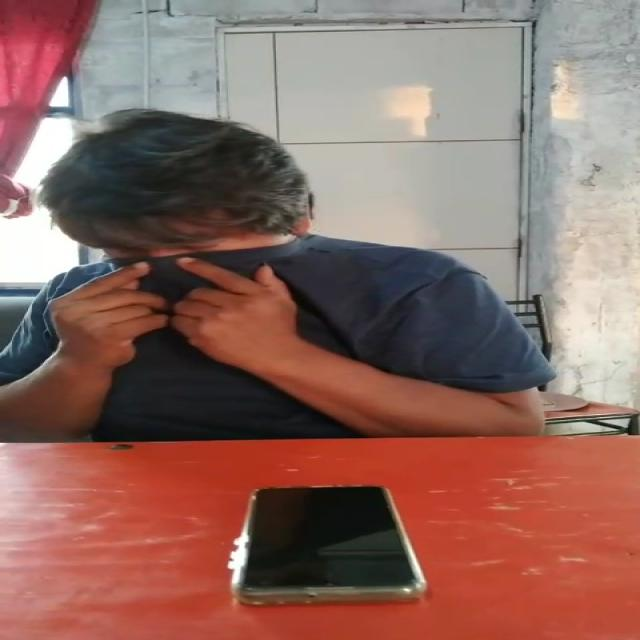8_ropa_rostro: (56, 242, 391, 319)
